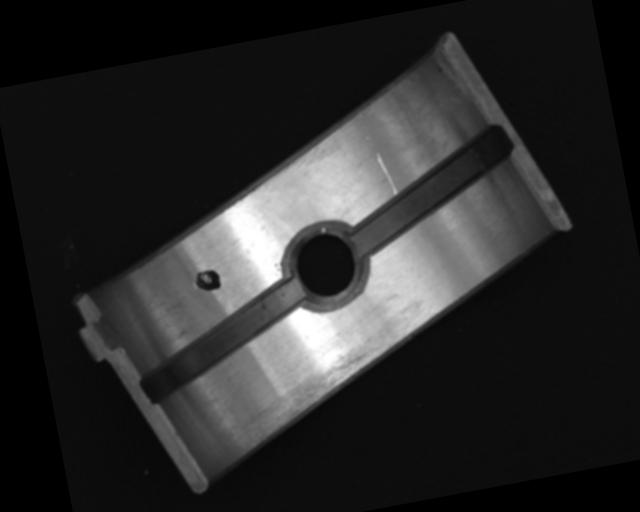blot: (190, 267, 223, 294)
gap: (338, 123, 523, 258), (127, 276, 317, 403)
hole: (279, 216, 371, 316)
nick: (375, 150, 397, 198)
scratch: (237, 341, 404, 447)
